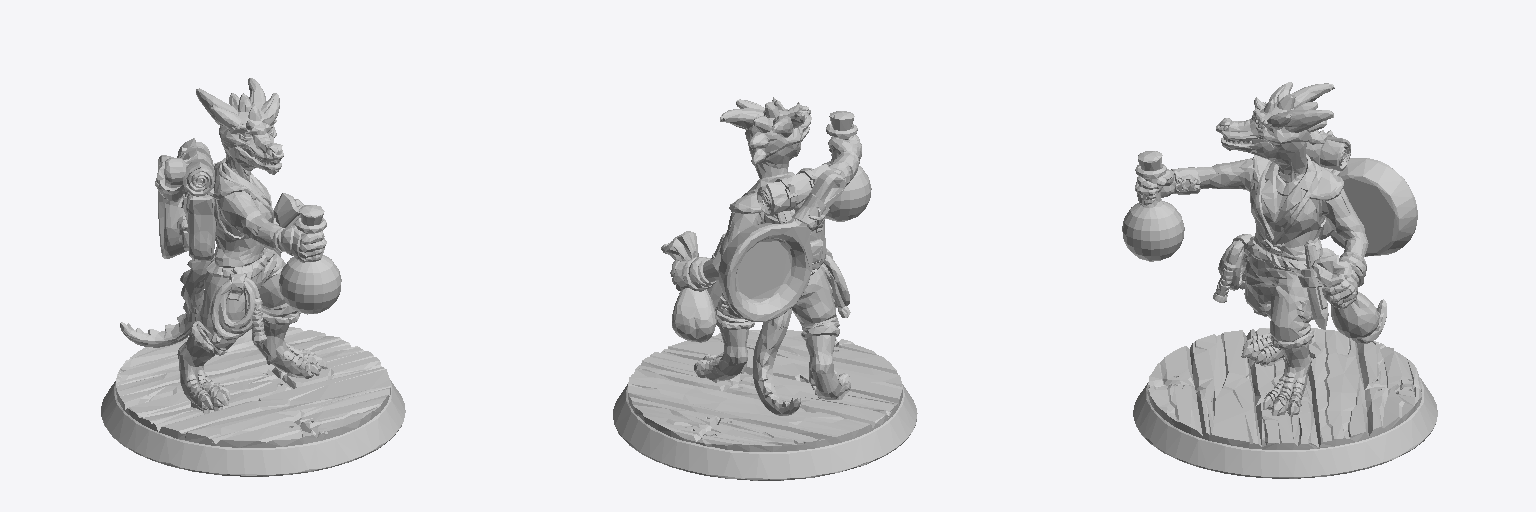
File: kobold_merchant.obj
The picture shows the model from 3 angles: view 1: azimuth 30°, elevation 25°; view 2: azimuth 150°, elevation 25°; view 3: azimuth 270°, elevation 25°; orthographic projection.
Visible parts, largest first — view 1: FreeSTL__Kobold_Trader; view 2: FreeSTL__Kobold_Trader; view 3: FreeSTL__Kobold_Trader.
Boxes of the visible parts, x1=… form: FreeSTL__Kobold_Trader: x1=101, y1=78, x2=405, y2=476; FreeSTL__Kobold_Trader: x1=613, y1=97, x2=917, y2=480; FreeSTL__Kobold_Trader: x1=1122, y1=82, x2=1437, y2=478.
Bounding box in the file's own units: 0.9396 × 1.08 × 0.9749.